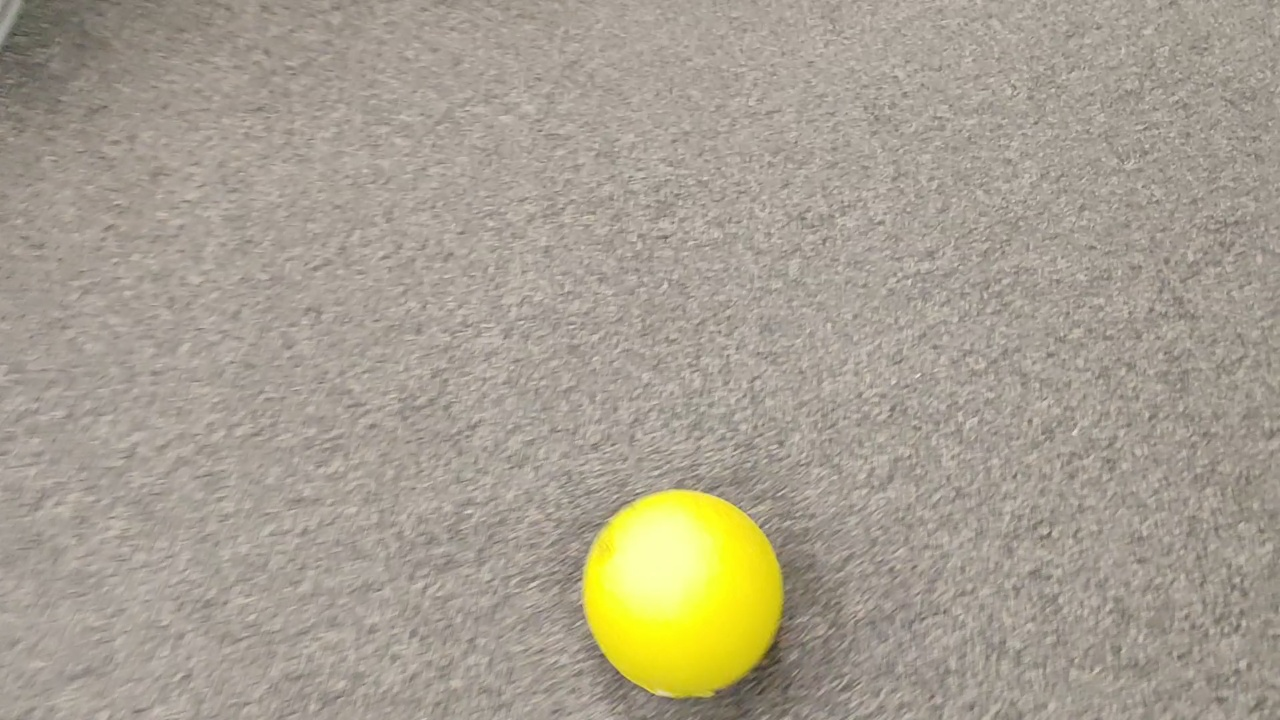Ball: (577, 486, 784, 698)
